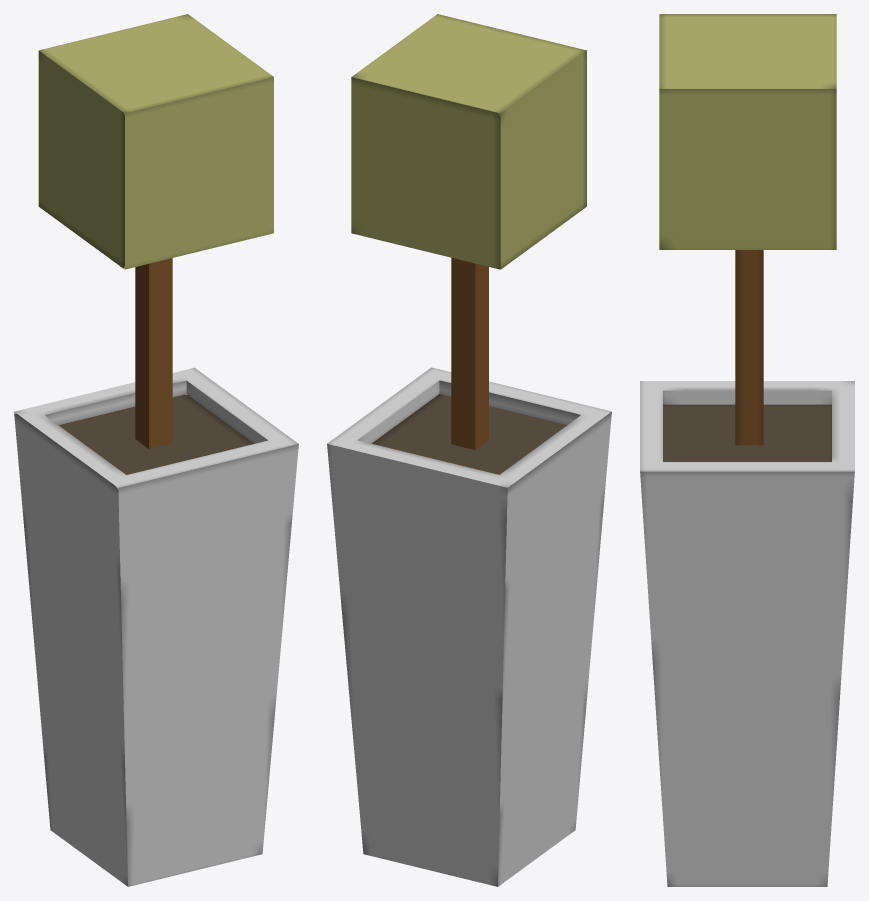
File: plant_a.fbx
The picture shows the model from 3 angles, left to right: view 1: azimuth 30°, elevation 25°; view 2: azimuth 150°, elevation 25°; view 3: azimuth 270°, elevation 25°; orthographic projection. The views are drawn at different scales.
Parts seen in each view (by area): view 1: Cube.124; view 2: Cube.124; view 3: Cube.124.
Part boxes in pixels (x1,y1,x2,y2): Cube.124: (14, 14, 298, 886); Cube.124: (327, 14, 611, 886); Cube.124: (640, 14, 854, 886).
Bounding box in the file's own units: 41.96 × 173 × 41.96.
Materials: 1 (1 with a texture image).
